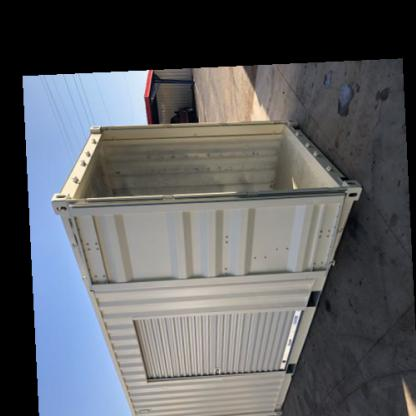Damage: (91, 140, 273, 194), (216, 213, 338, 275)
